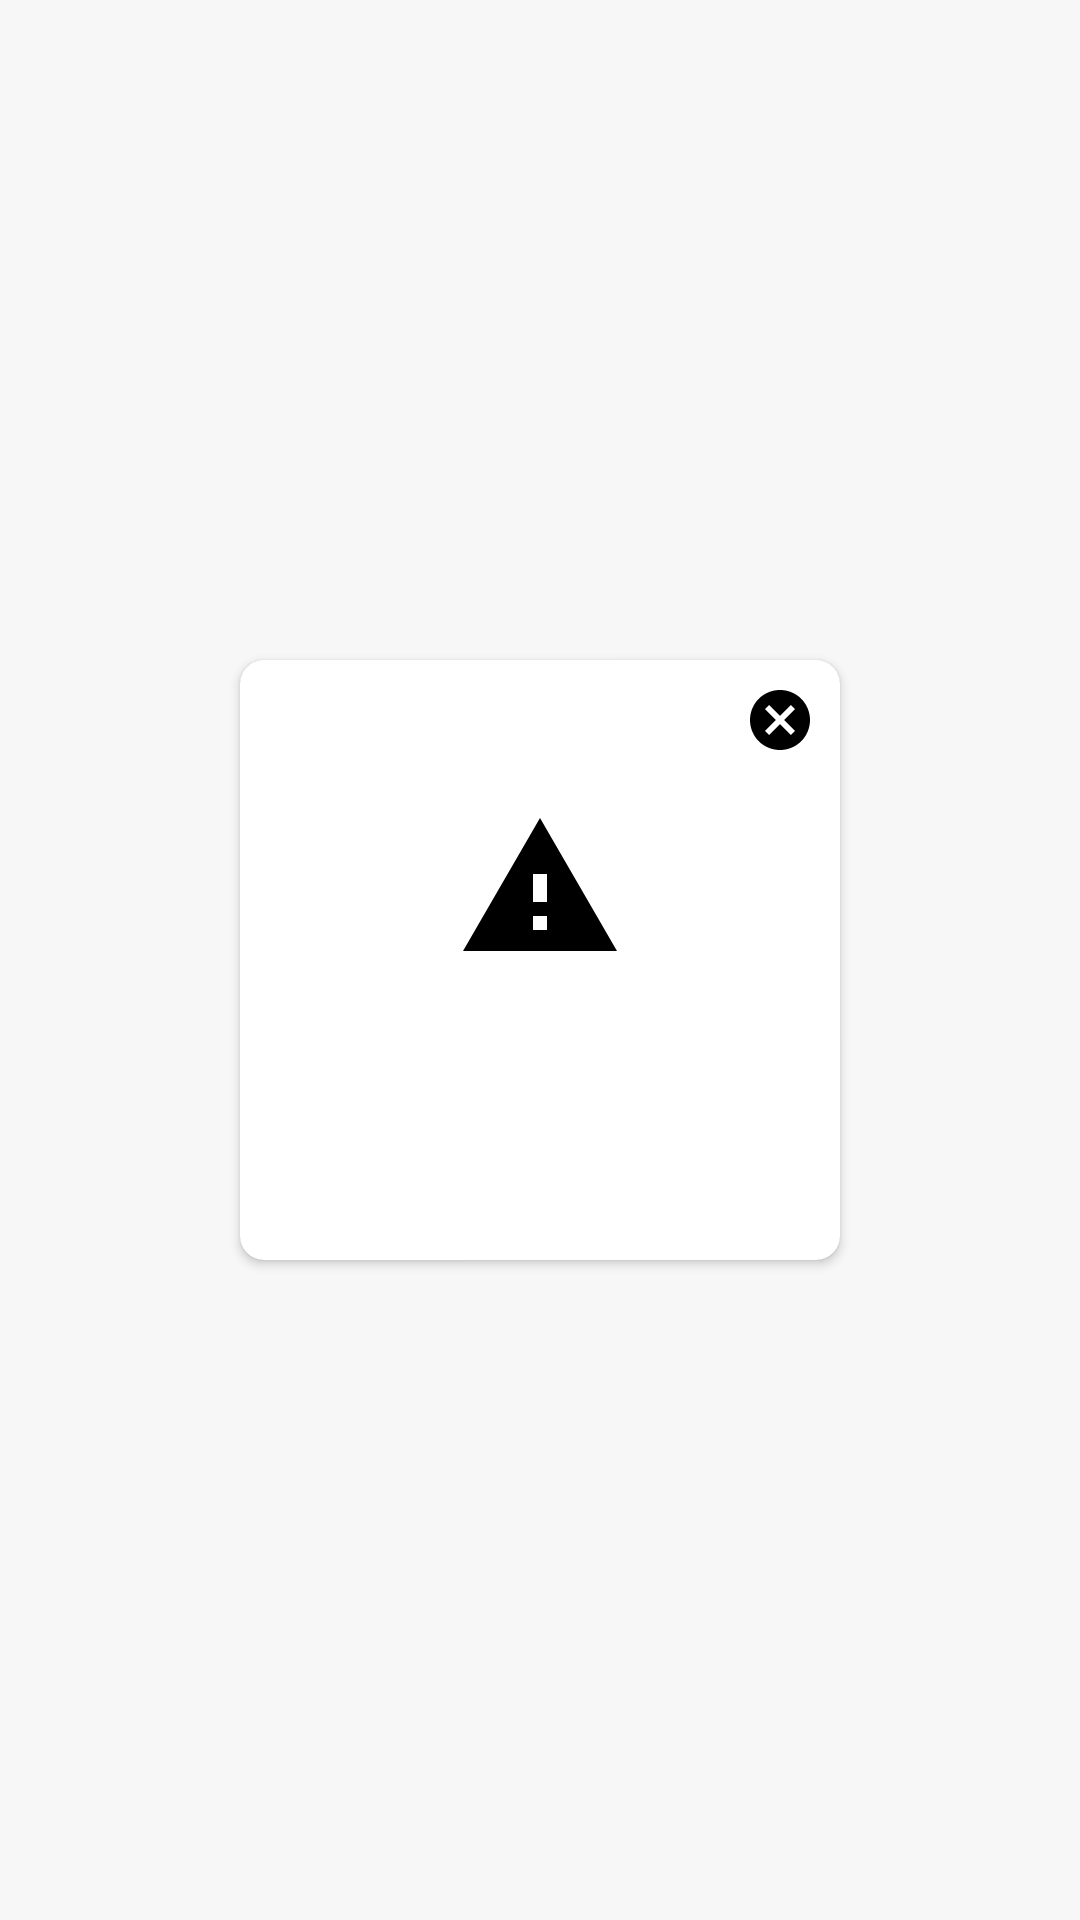

Icon bounding boxes for this 1080x1920 phone screenshot, format (x1, y1, x2, y2):
cancel: (750, 690, 810, 750)
report problem: (463, 818, 617, 951)
